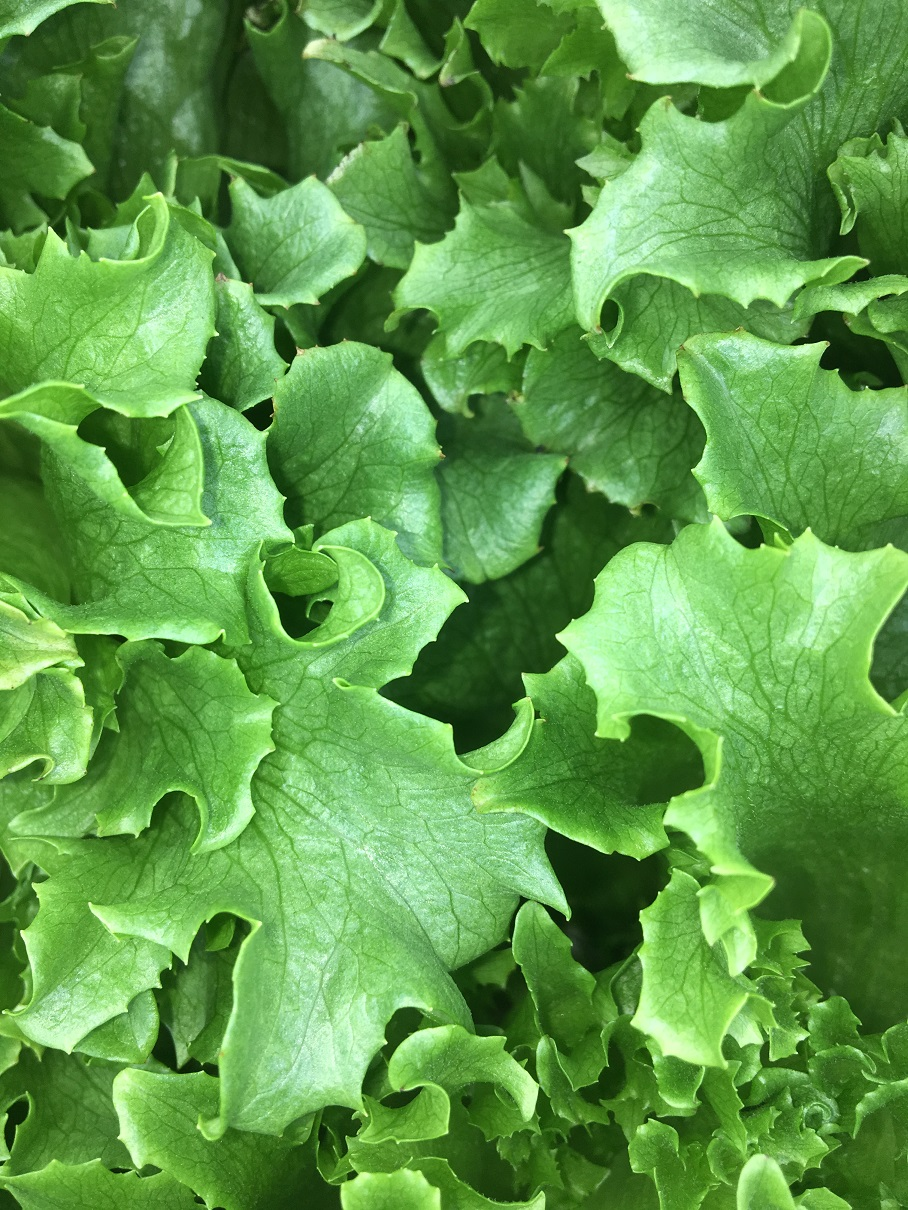tipburn: (458, 760, 501, 814), (198, 254, 245, 302), (572, 306, 619, 353), (496, 372, 540, 422), (298, 34, 351, 73), (745, 70, 788, 114), (282, 332, 325, 375), (429, 439, 465, 476), (609, 57, 645, 91), (434, 62, 468, 97), (668, 331, 702, 365), (257, 395, 291, 425), (653, 85, 684, 116), (253, 364, 287, 390), (241, 270, 265, 298), (833, 307, 855, 329), (819, 333, 835, 355)
